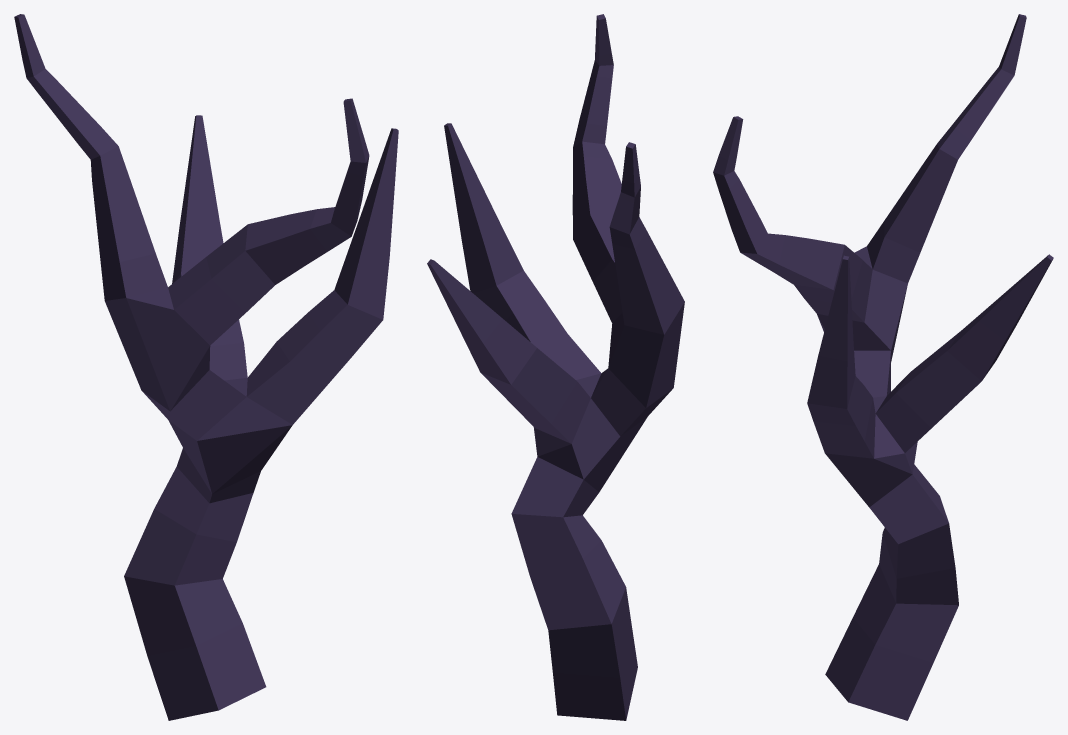
File: vinetreeSmall.fbx
3 views of the same model, side by side, from view 1: azimuth 30°, elevation 25°; view 2: azimuth 150°, elevation 25°; view 3: azimuth 270°, elevation 25° (orthographic). The views are drawn at different scales.
Parts seen in each view (by area): view 1: Cube.005; view 2: Cube.005; view 3: Cube.005.
Part boxes in pixels (<box>): Cube.005: <box>14,14,398,720</box>; Cube.005: <box>427,14,684,720</box>; Cube.005: <box>713,14,1053,720</box>.
Bounding box in the file's own units: 140 × 310 × 149.
